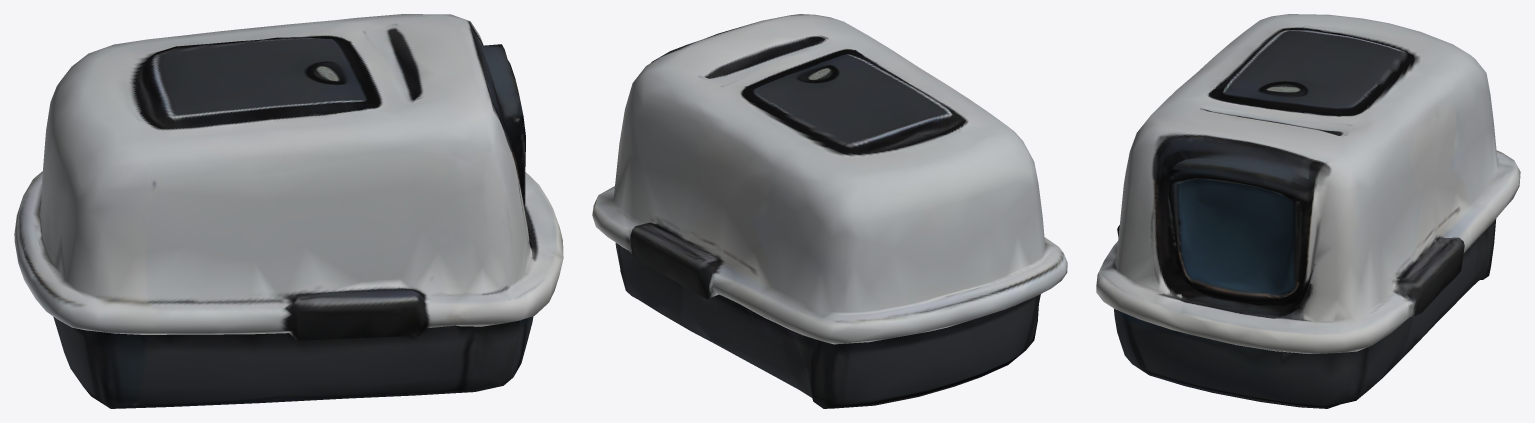
Rendered from LitterBox.fbx.
3 renders of one model, left to right at view 1: azimuth 30°, elevation 25°; view 2: azimuth 150°, elevation 25°; view 3: azimuth 270°, elevation 25°, orthographic. The views are drawn at different scales.
Parts seen in each view (by area): view 1: tripo_node_cc436b14; view 2: tripo_node_cc436b14; view 3: tripo_node_cc436b14.
Part boxes in pixels (box(x1,y1,x2,y2)): tripo_node_cc436b14: box(14, 14, 563, 408); tripo_node_cc436b14: box(592, 14, 1067, 408); tripo_node_cc436b14: box(1096, 14, 1520, 408).
Size of the model in its own units: 35.78 by 19.2 by 29.84.
Materials: 1 (1 with a texture image).
